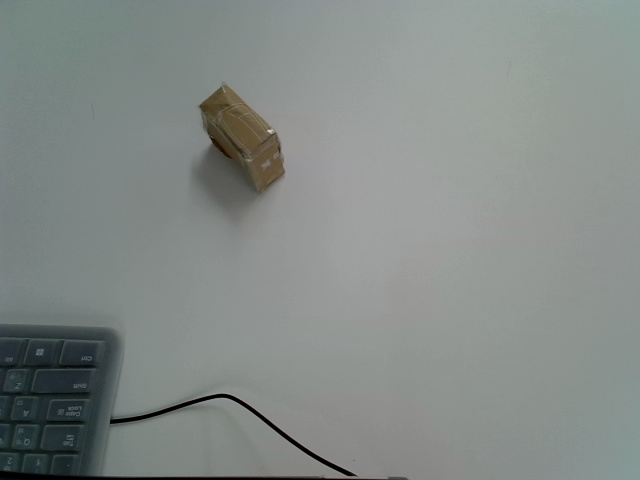defect: (198, 82, 287, 193)
